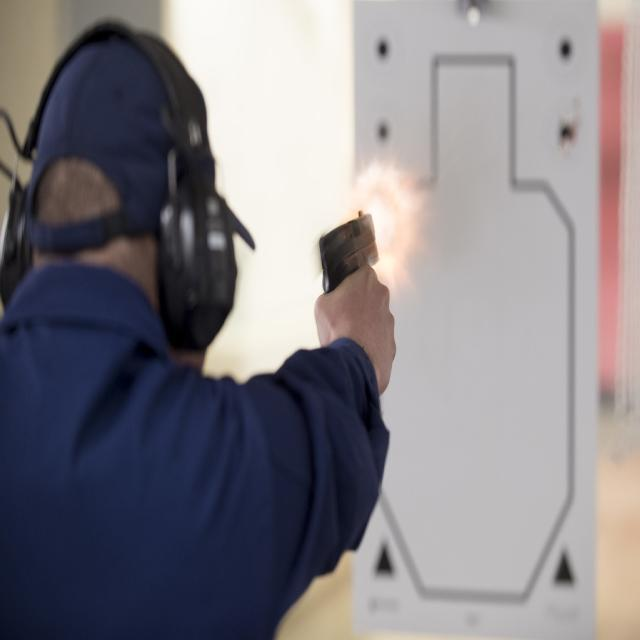Gun: (320, 211, 378, 292)
